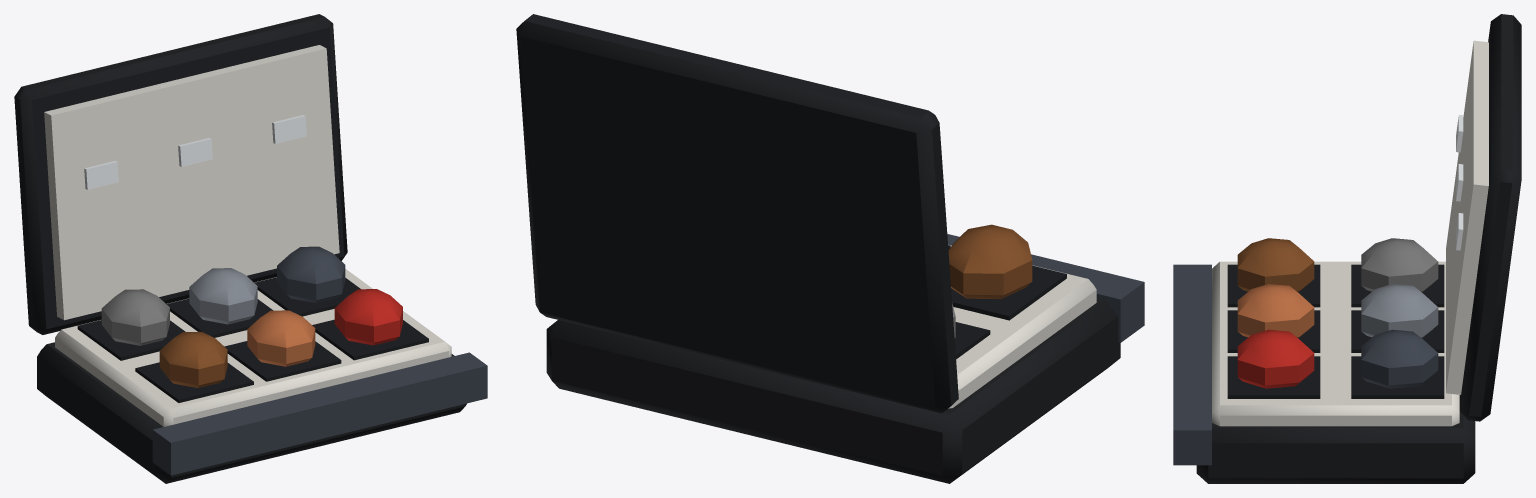
Rendered from specimen_rock_sample_case.glb.
3 views of the same model, side by side, from view 1: azimuth 30°, elevation 25°; view 2: azimuth 150°, elevation 25°; view 3: azimuth 270°, elevation 25° (orthographic). The views are drawn at different scales.
Visible parts, largest first — view 1: specimen_rock_sample_case; view 2: specimen_rock_sample_case; view 3: specimen_rock_sample_case.
Part boxes in pixels (bbox=[...]): specimen_rock_sample_case: bbox=[14, 14, 487, 483]; specimen_rock_sample_case: bbox=[516, 14, 1144, 483]; specimen_rock_sample_case: bbox=[1173, 14, 1521, 483].
Size of the model in its own units: 0.506 by 0.4497 by 0.45.
